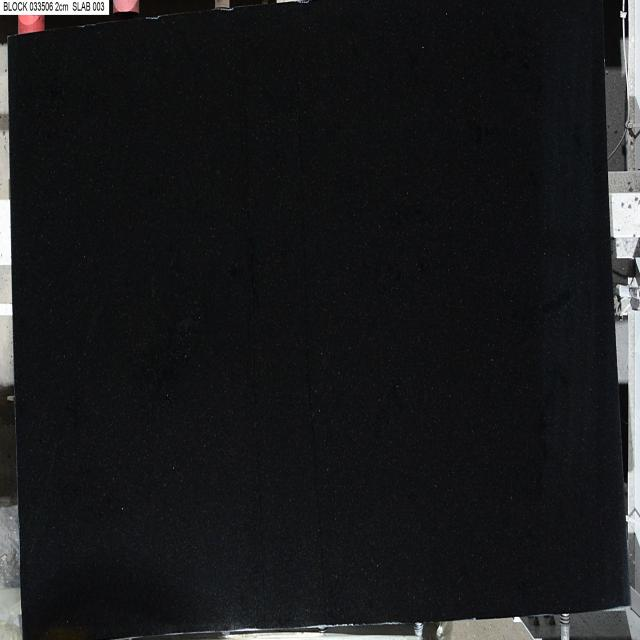chapa: (9, 2, 630, 638)
